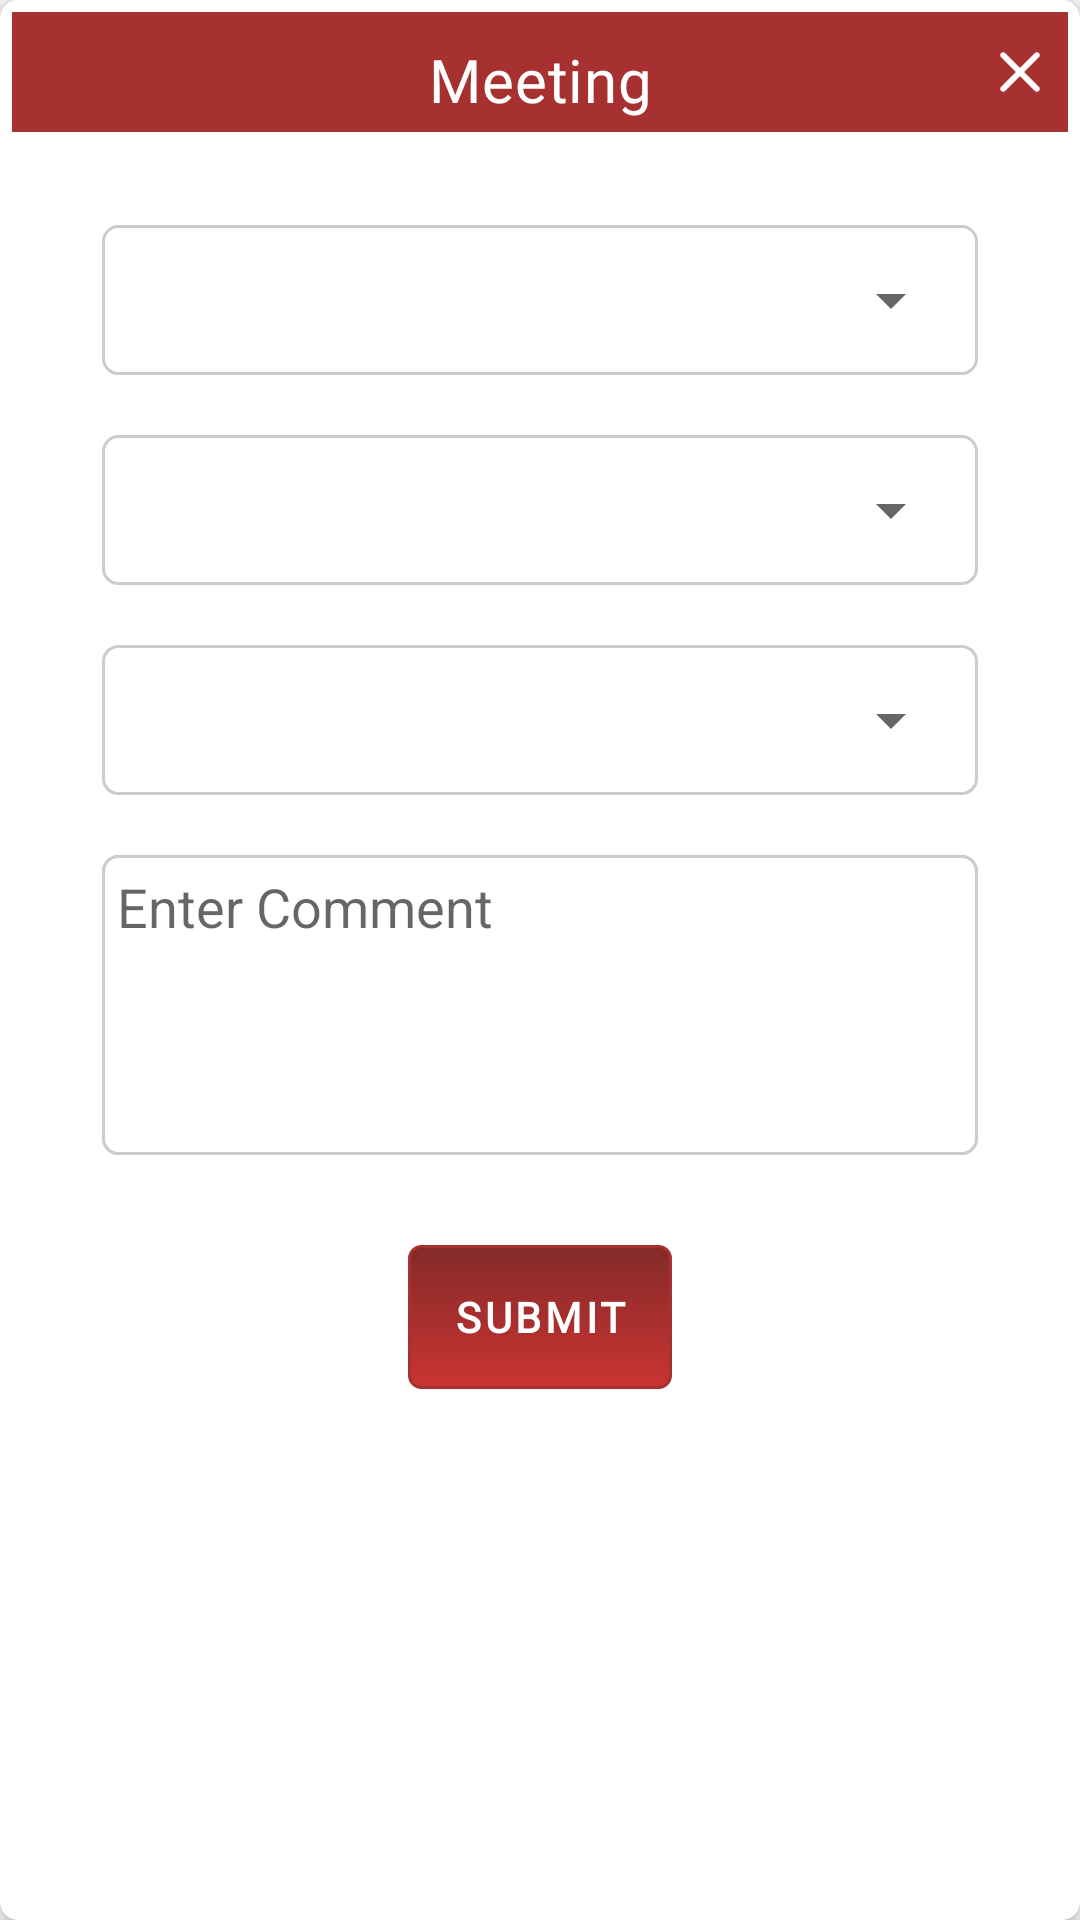

Icon click points for this 1080w x 1920h phone screenshot, format [x,y]:
close: [1020,72]
